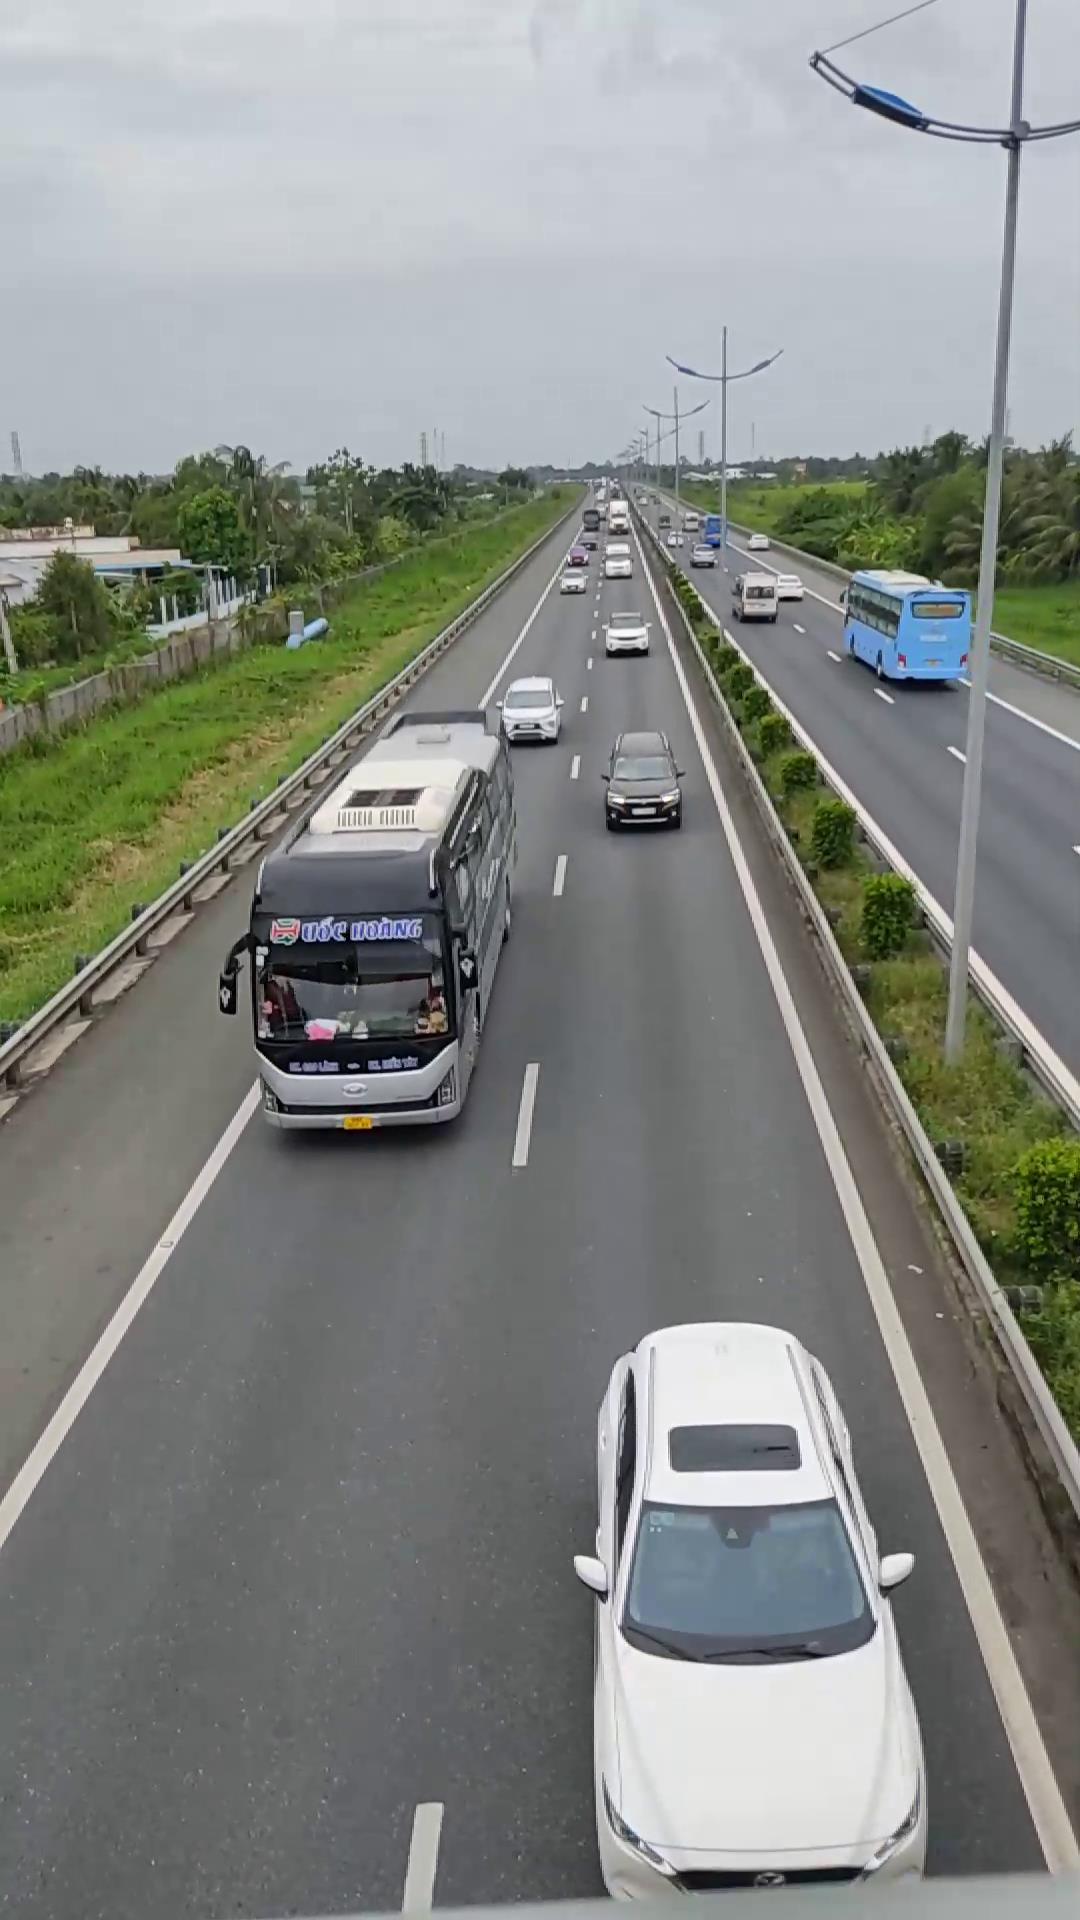bus: (228, 711, 520, 1132)
car: (576, 1315, 929, 1882), (599, 729, 685, 830), (490, 675, 566, 744)
